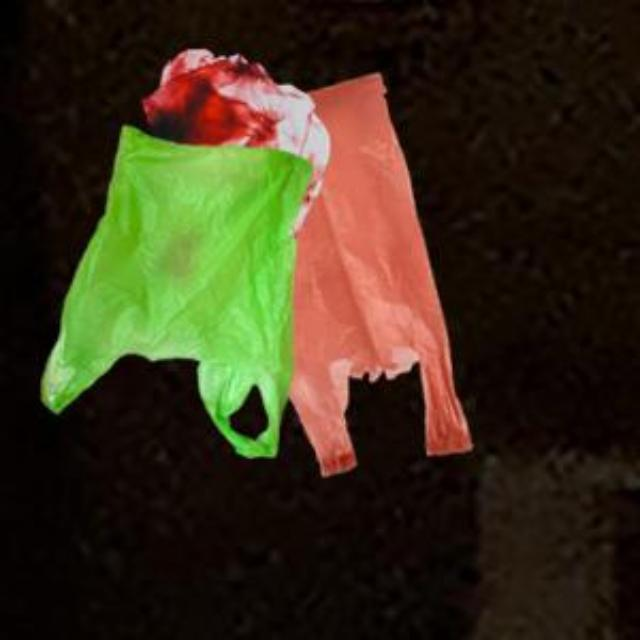Single-layer Plastic: (42, 126, 311, 458), (290, 74, 472, 476), (142, 49, 330, 222)
